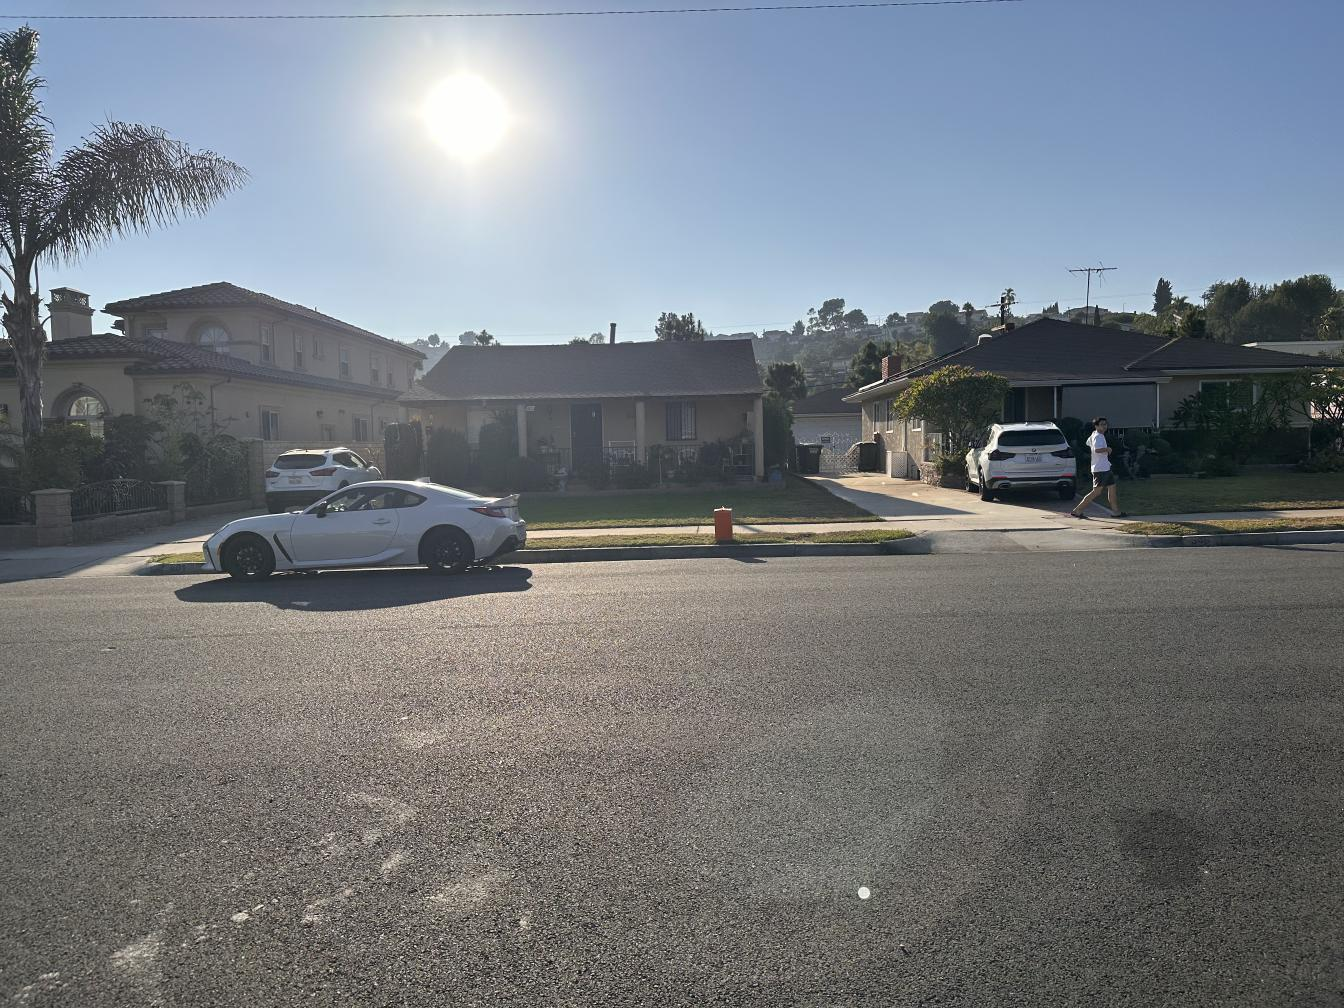curbs-laRr: (529, 542, 884, 558), (1180, 527, 1343, 552)
orange box: (714, 508, 734, 541)
